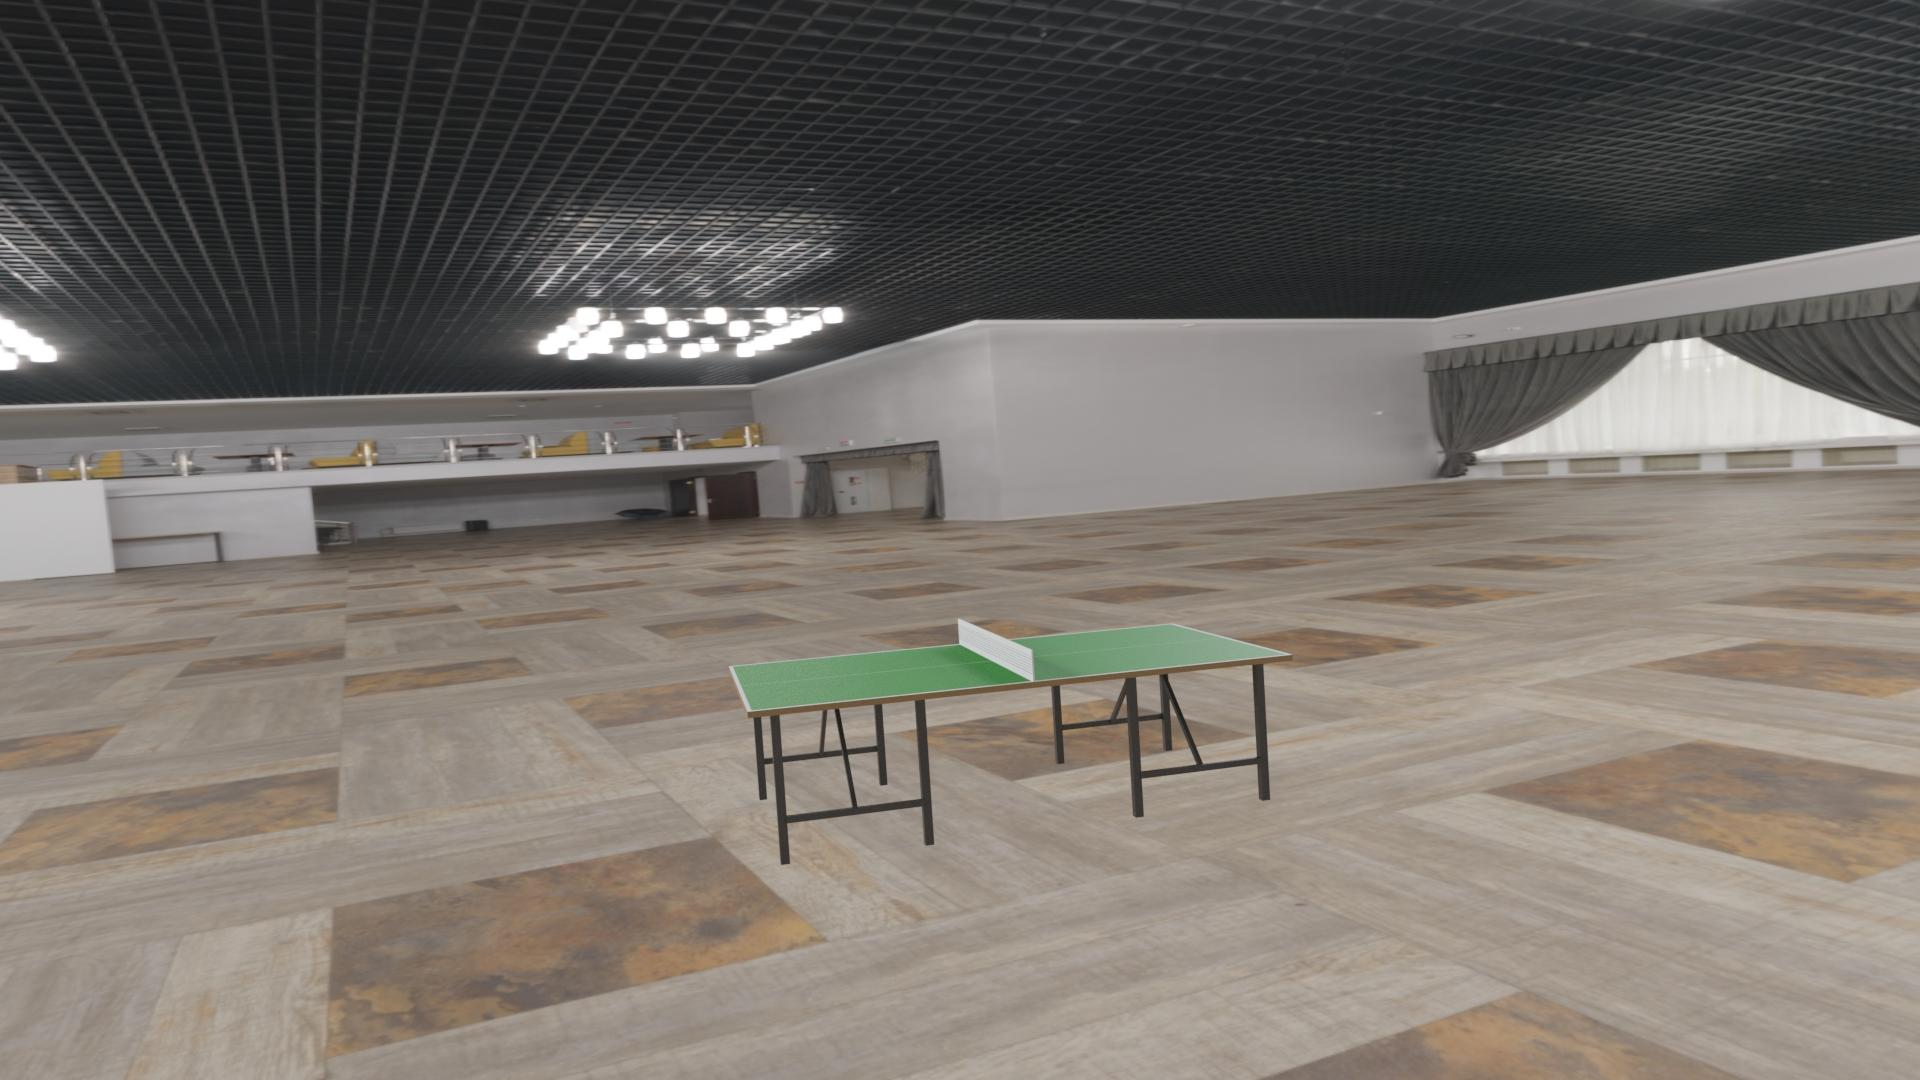table: (733, 624, 1287, 711)
